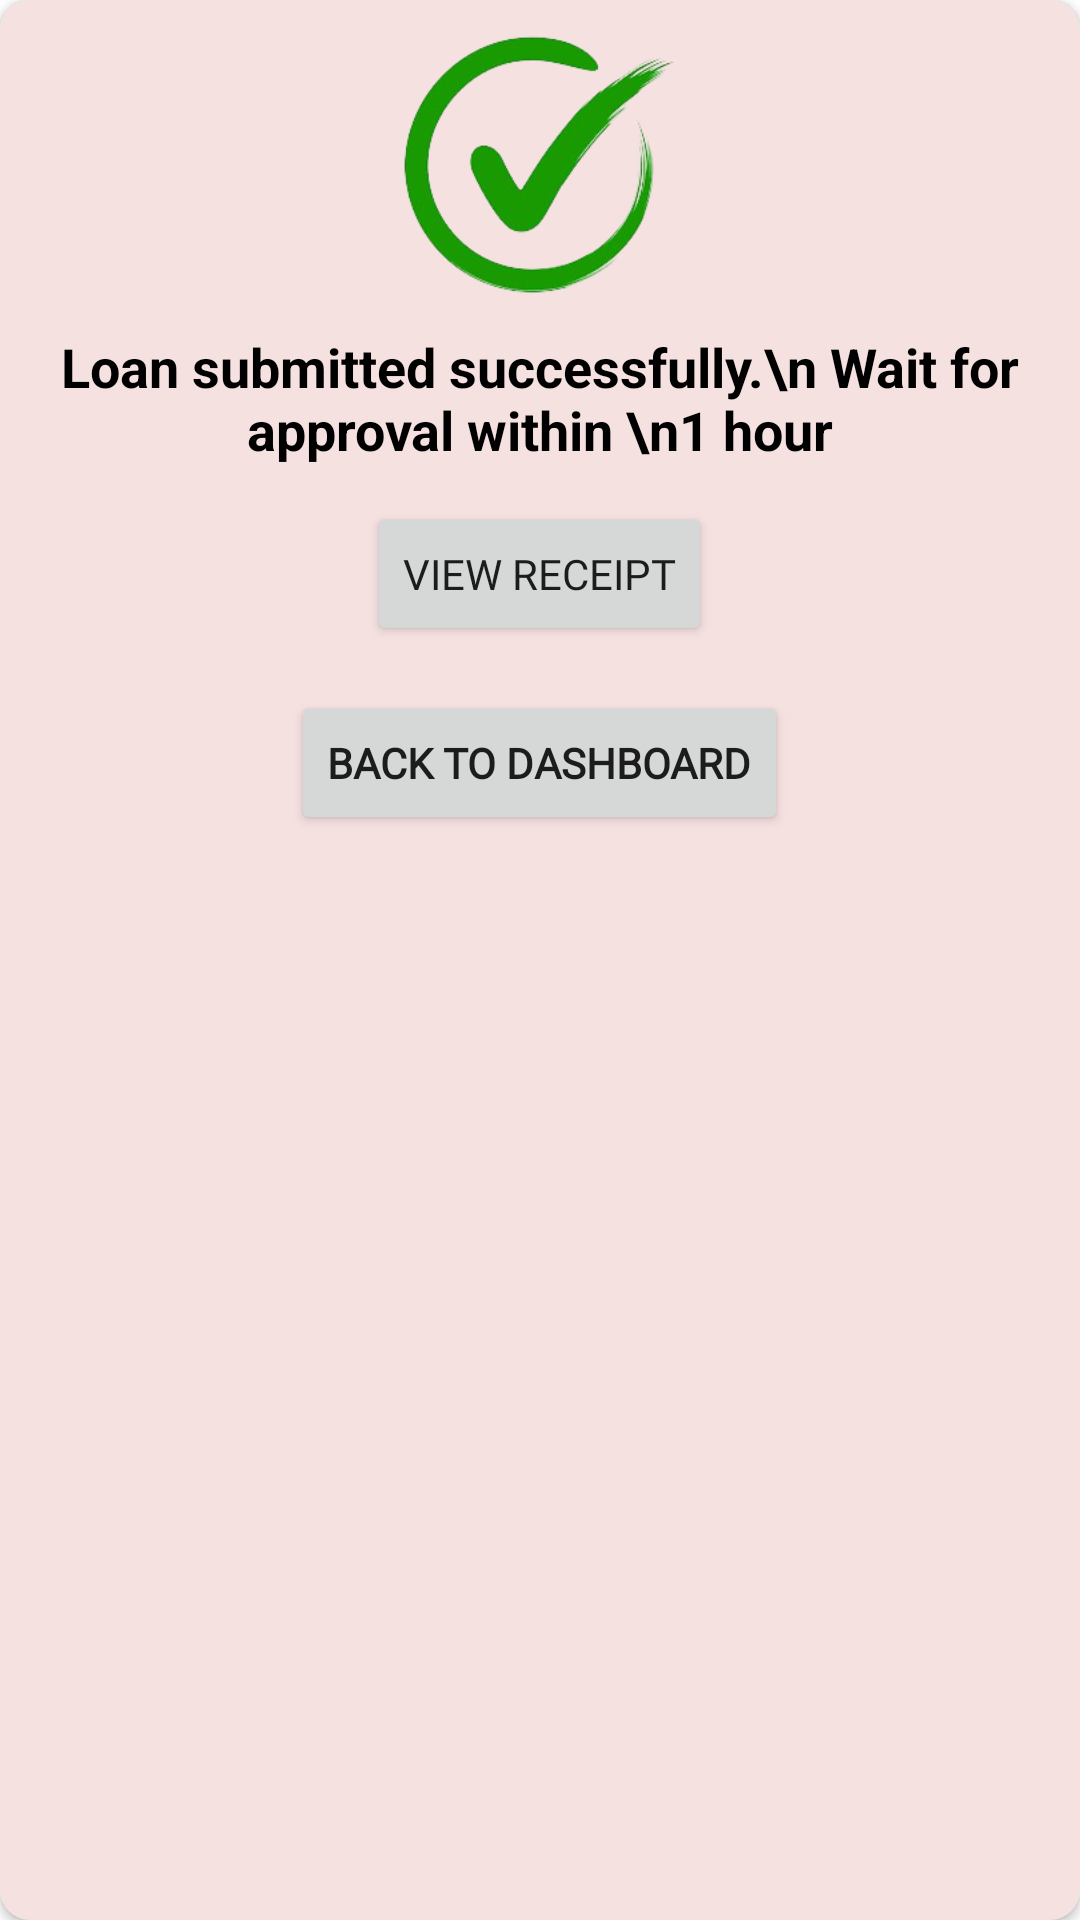

Where icons sit on this 1080*1920 app screen, as Rect(x1, y1, x2, y2):
tick: Rect(404, 36, 673, 293)
